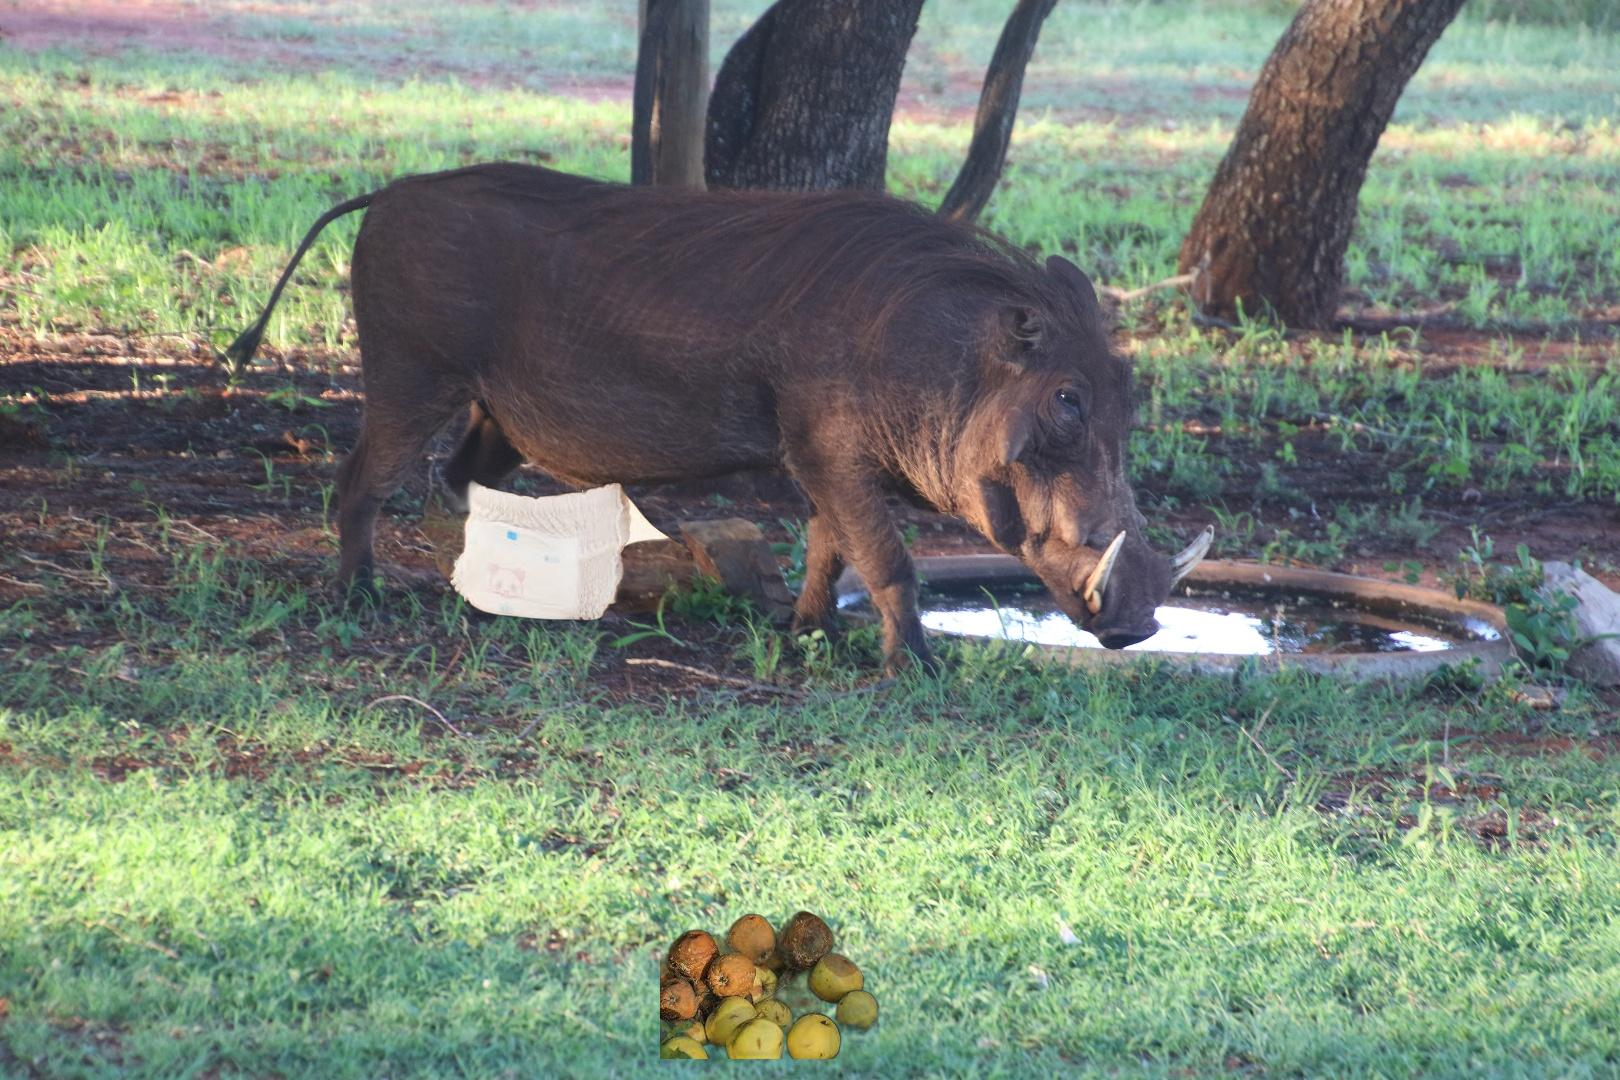biological: (661, 884, 945, 1060)
trash: (413, 451, 693, 629)
